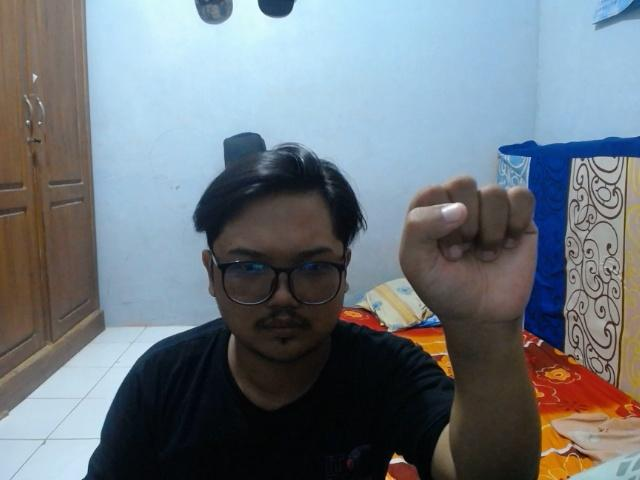Grab: (393, 172, 543, 328)
